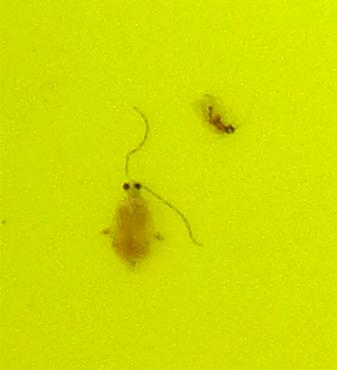Brachycera: (202, 100, 237, 138)
Coleoptera: (100, 178, 166, 270)
